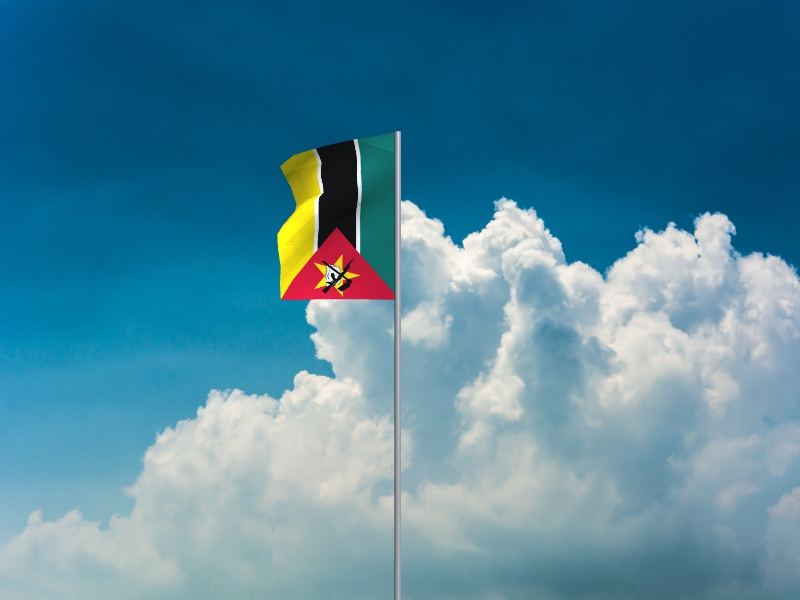mz: (277, 134, 395, 301)
